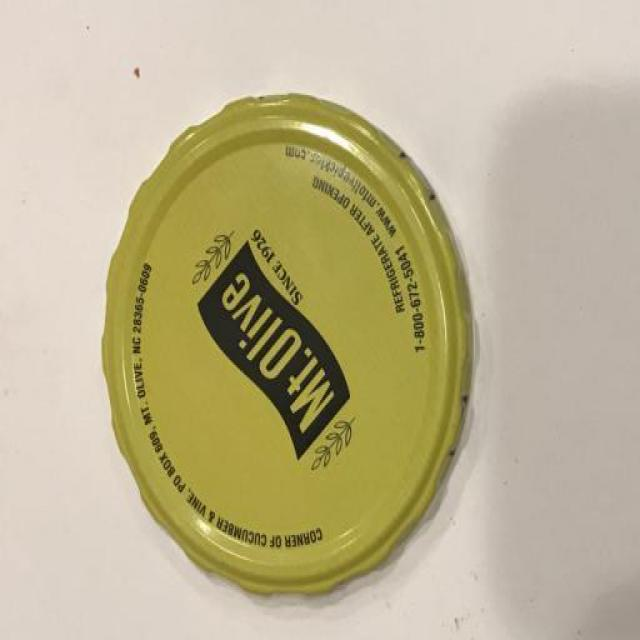metel: (90, 75, 504, 620)
